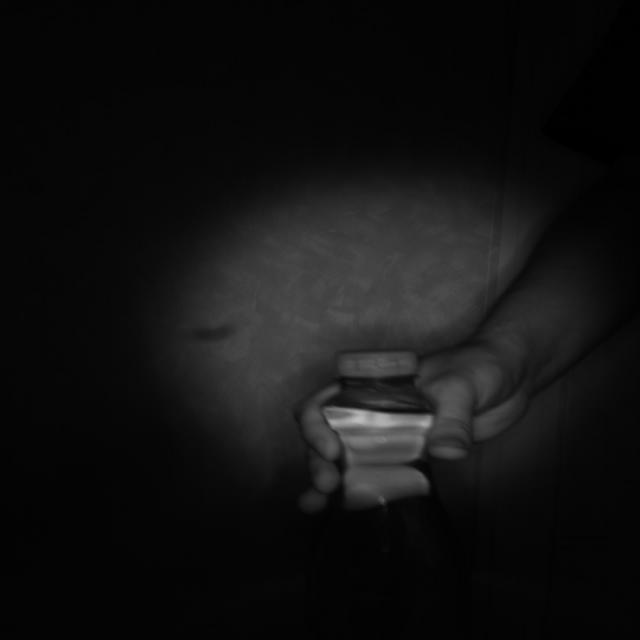Good: (334, 348, 424, 382)
